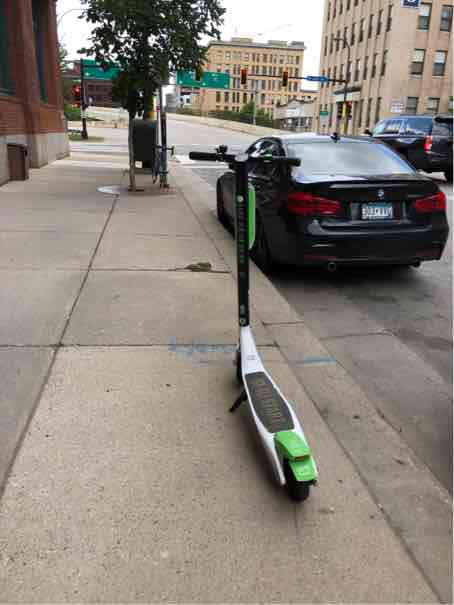scooter: (169, 142, 335, 496)
